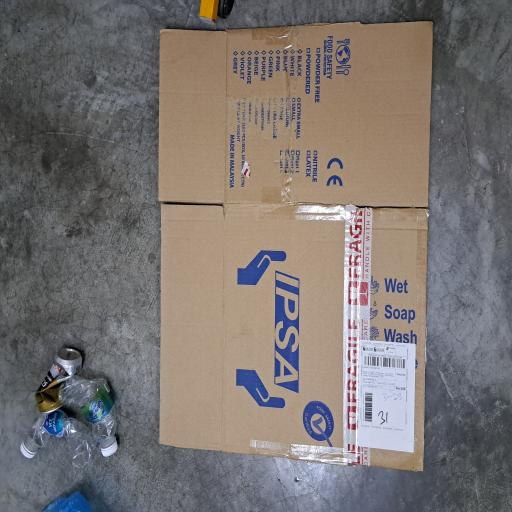can: (78, 50, 128, 114)
cardboard: (40, 201, 375, 512)
plastic bottle: (53, 82, 106, 161), (37, 43, 78, 120)
plastic bottle cap: (40, 23, 53, 45), (41, 130, 51, 152)
